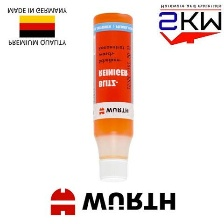cleaning_solution: (89, 10, 136, 185)
